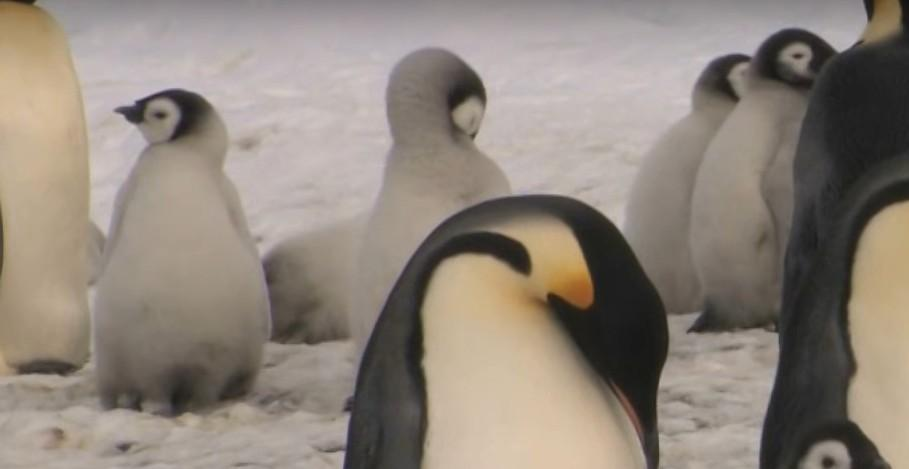Emperor Penguin: (335, 180, 677, 469), (88, 68, 278, 405), (788, 129, 909, 425), (753, 415, 909, 469)
